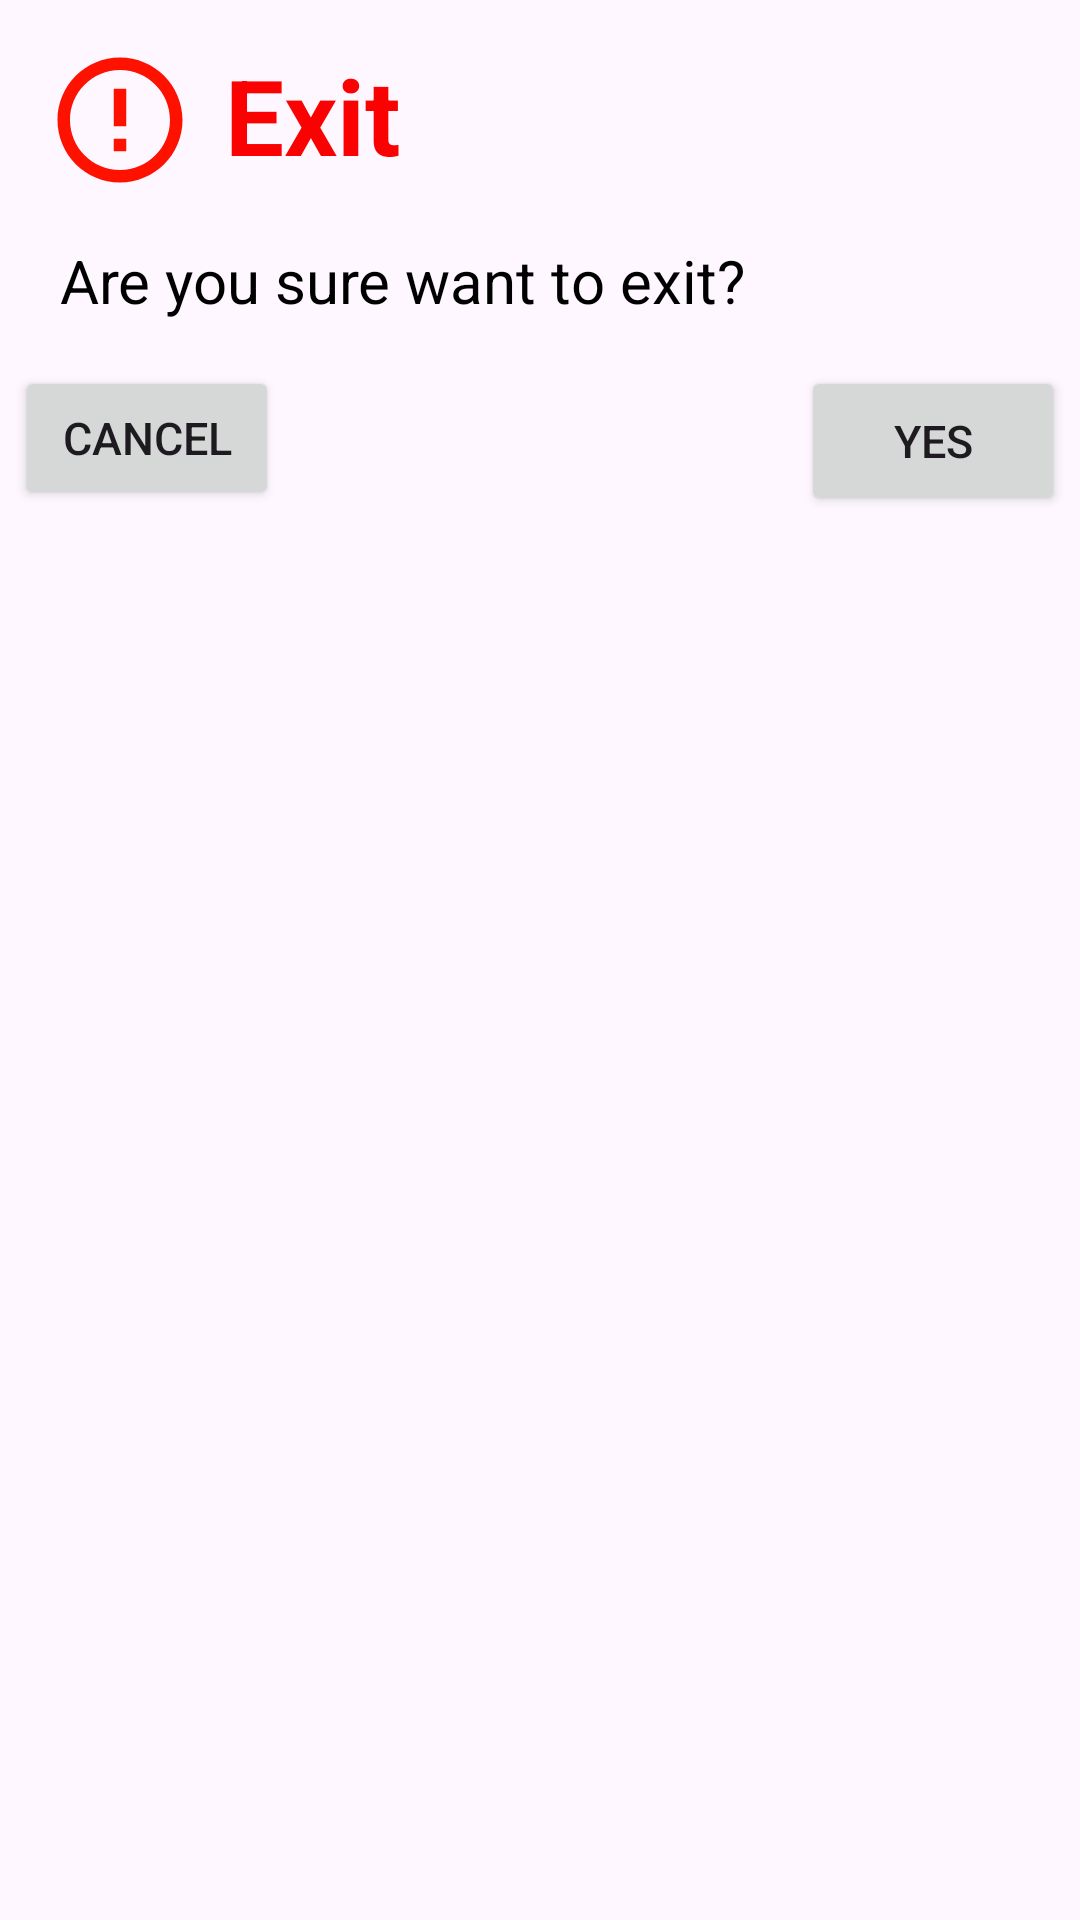

Named icons in this screenshot (1080×1920) and their bounding boxes, (x1, y1, x2, y2):
error: (57, 57, 183, 183)
